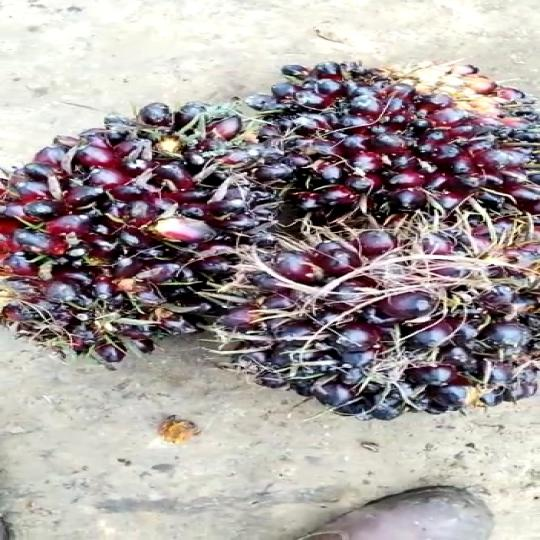kurang masak: (0, 83, 244, 350), (227, 234, 540, 397), (252, 54, 540, 221)
